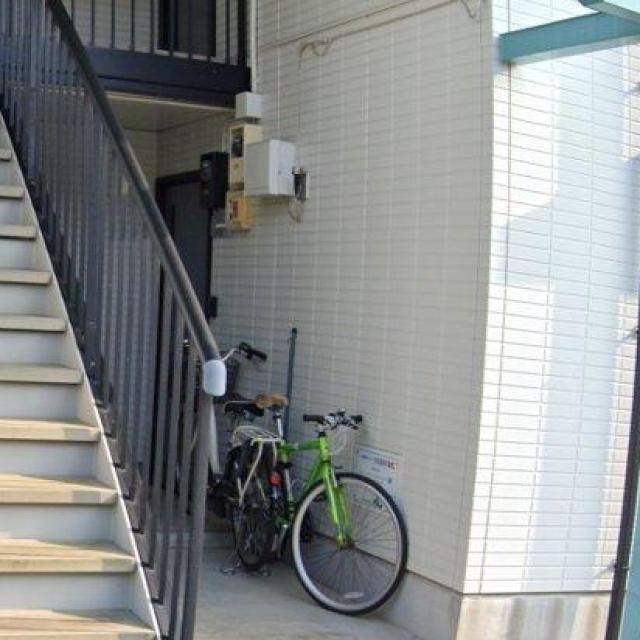bicycle: (222, 401, 442, 622), (173, 325, 287, 571)
